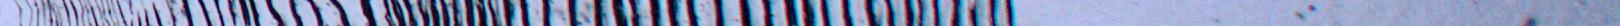circulus: (331, 1, 351, 24), (266, 1, 285, 24), (308, 1, 325, 24), (360, 1, 377, 24), (390, 1, 407, 24), (403, 1, 420, 24), (612, 1, 628, 24), (198, 1, 213, 24), (289, 1, 304, 24), (666, 1, 681, 24), (685, 1, 699, 24), (802, 1, 816, 24), (841, 1, 855, 24), (116, 1, 129, 24), (239, 1, 252, 24), (416, 1, 430, 24), (739, 1, 752, 24), (784, 1, 798, 24), (11, 1, 23, 26), (182, 1, 194, 24), (249, 1, 261, 24), (383, 1, 396, 24), (475, 1, 488, 24), (487, 1, 499, 24), (649, 1, 661, 24), (865, 1, 877, 24), (88, 1, 99, 24), (151, 1, 162, 24), (214, 1, 225, 24), (429, 1, 440, 24), (440, 1, 451, 24), (464, 1, 475, 24), (519, 1, 530, 24), (593, 1, 604, 24), (629, 1, 641, 24), (714, 1, 725, 24), (762, 1, 774, 24), (820, 1, 832, 24), (904, 1, 915, 24), (951, 1, 962, 24), (967, 1, 978, 24), (24, 1, 34, 24), (95, 1, 105, 24), (110, 1, 120, 24), (166, 1, 177, 24), (227, 1, 238, 24), (503, 1, 513, 24), (567, 1, 578, 24), (100, 1, 110, 24), (106, 1, 116, 24), (141, 1, 150, 24), (886, 1, 896, 24), (931, 1, 940, 24), (988, 1, 997, 24), (1005, 1, 1015, 24), (32, 1, 40, 24), (51, 1, 59, 24), (54, 1, 62, 24), (63, 1, 71, 24), (84, 1, 92, 24), (451, 1, 460, 24), (542, 1, 551, 24), (71, 1, 79, 24), (79, 1, 86, 24), (128, 1, 135, 24), (916, 1, 924, 24), (40, 1, 46, 24), (46, 1, 53, 24), (135, 1, 142, 24)
